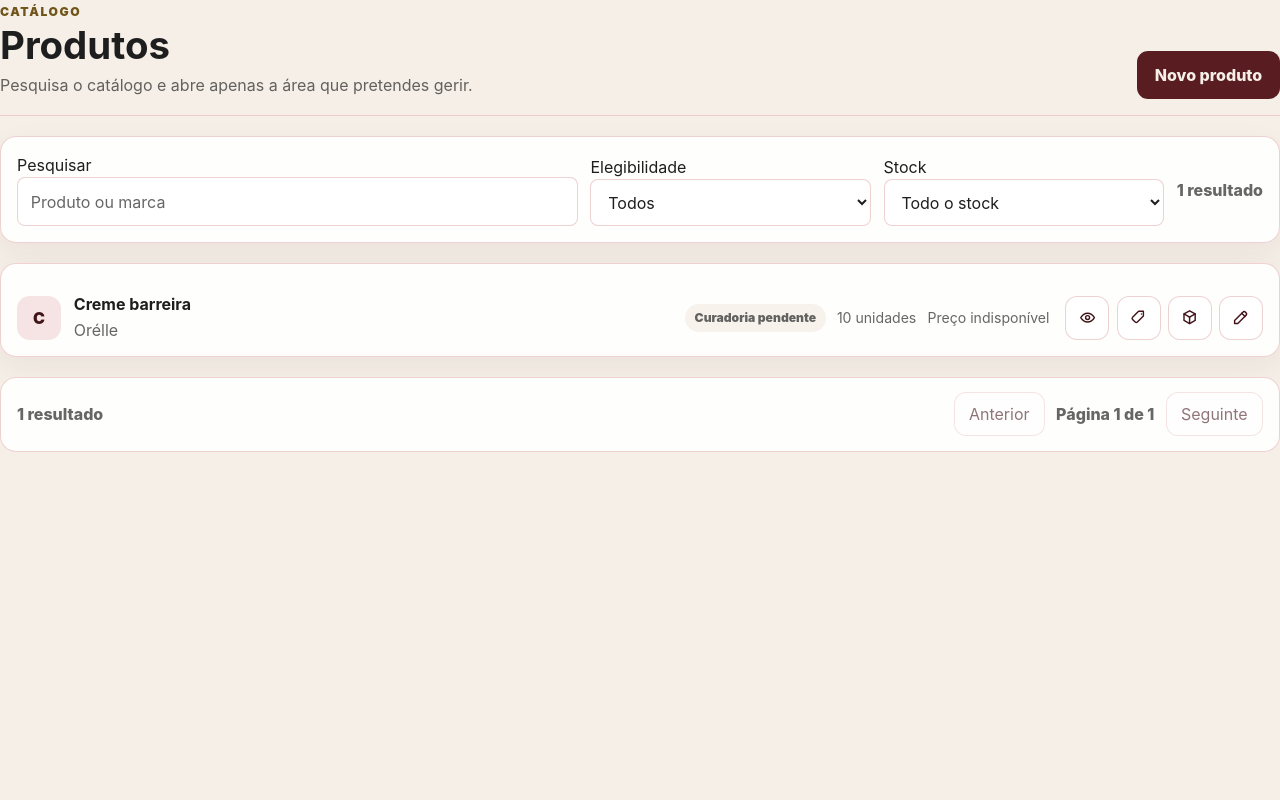
Test: abre a curadoria da linha e guarda metadata sem pedir identificadores
What coordinates should you click on to do the following:
click the button named "Editar curadoria de Creme barreira"
I would click on:
 (1241, 318)
Its box is [1219, 296, 1263, 340].
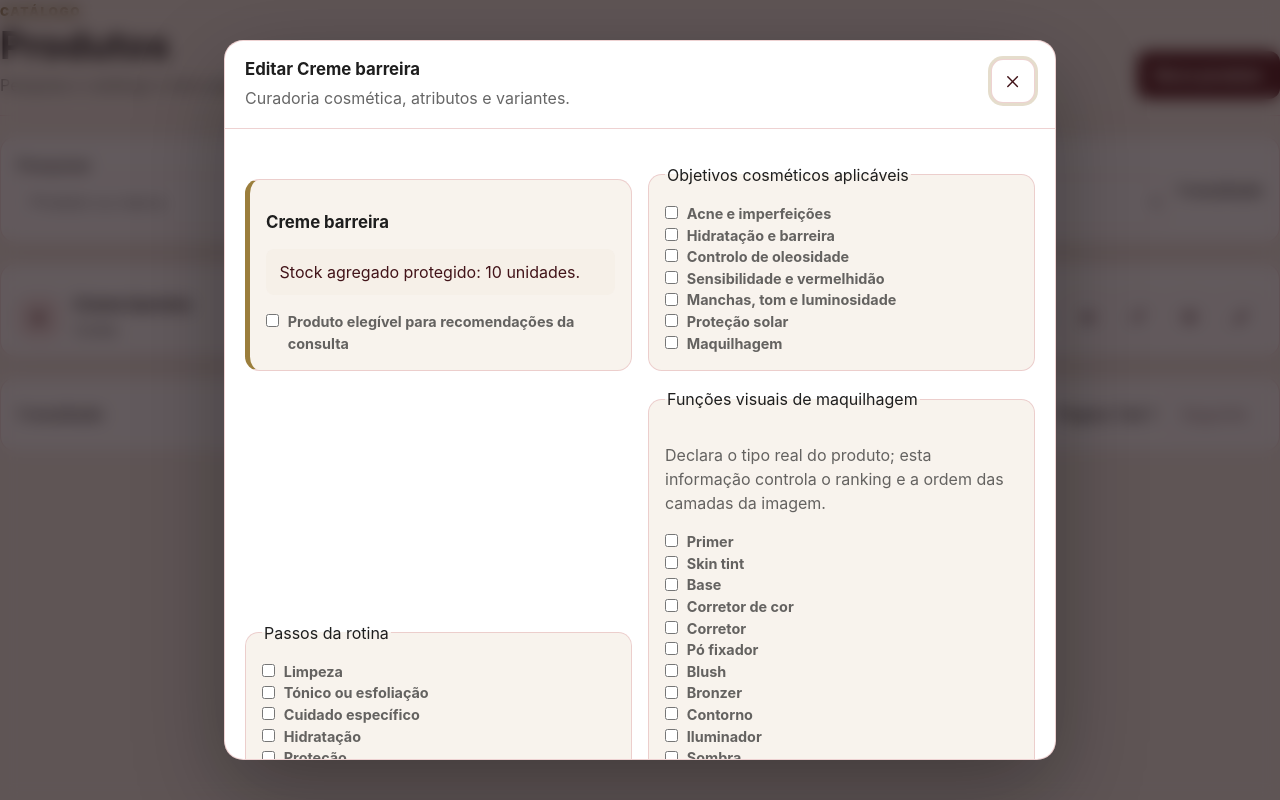
Expected: the dialog "Editar Creme barreira" is shown, [224, 40, 1056, 760]
What coordinates should you click on to do the following:
click the checkbox labelled "Produto elegível para recomendações da consulta"
I would click on:
 (272, 321)
Its box is [266, 314, 279, 327].
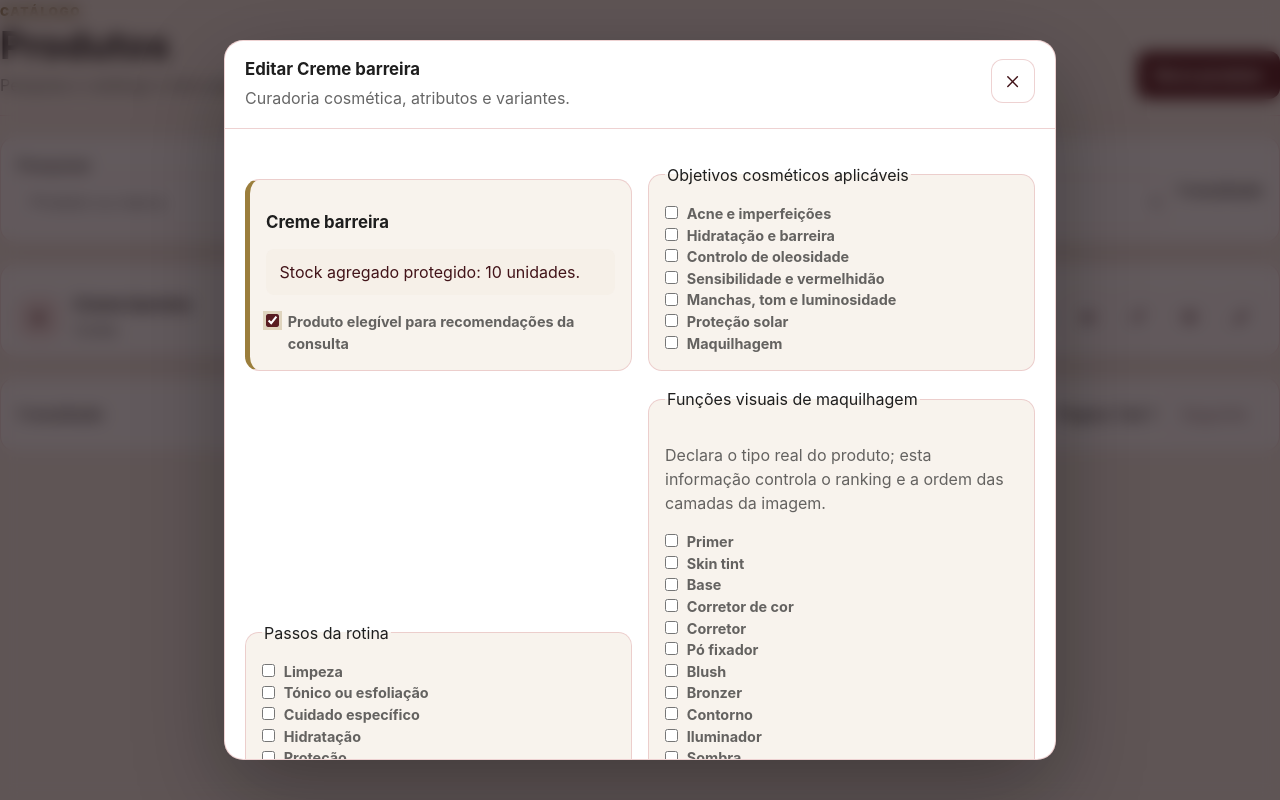
What coordinates should you click on to do the following:
click the checkbox labelled "Hidratação e barreira"
I would click on:
 (672, 234)
Its box is [665, 228, 678, 241].
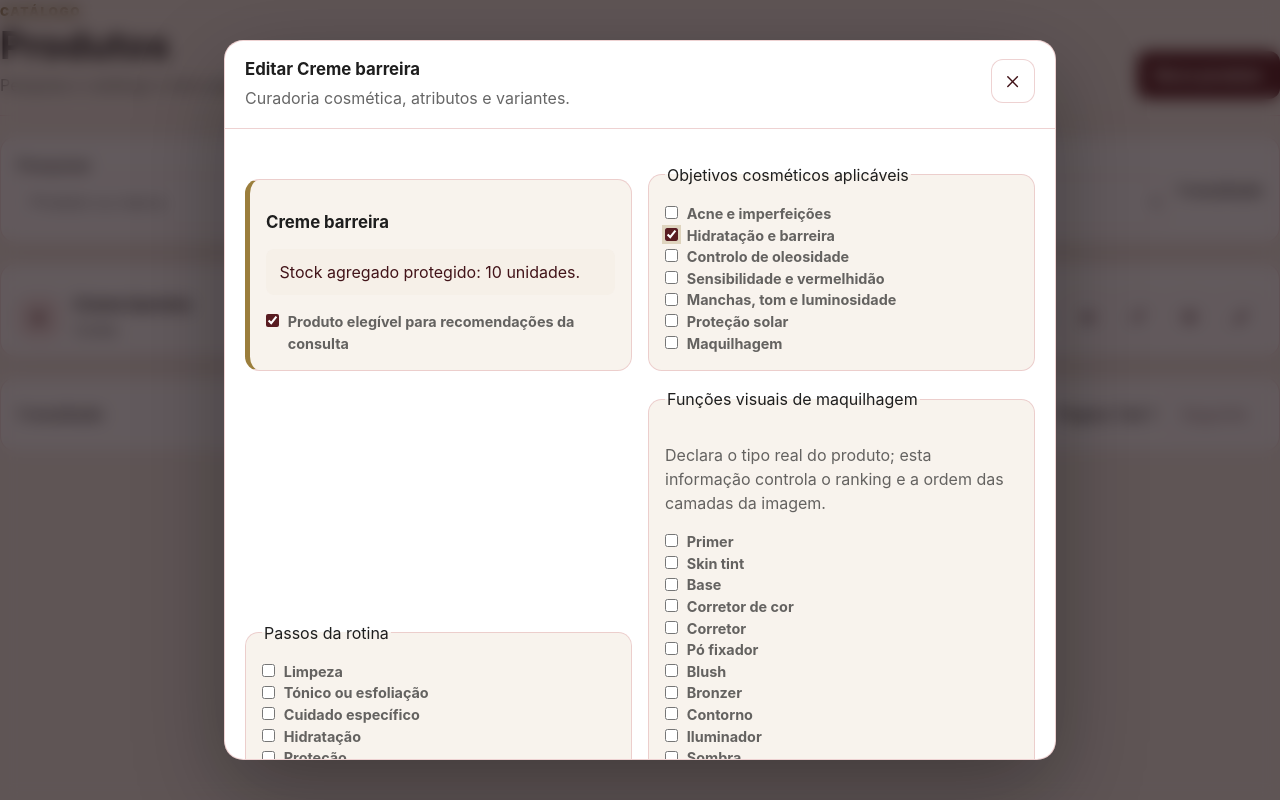
What coordinates should you click on to do the following:
click the checkbox labelled "Hidratação"
I would click on:
 (268, 735)
Its box is [262, 729, 275, 742].
(page scrolled)
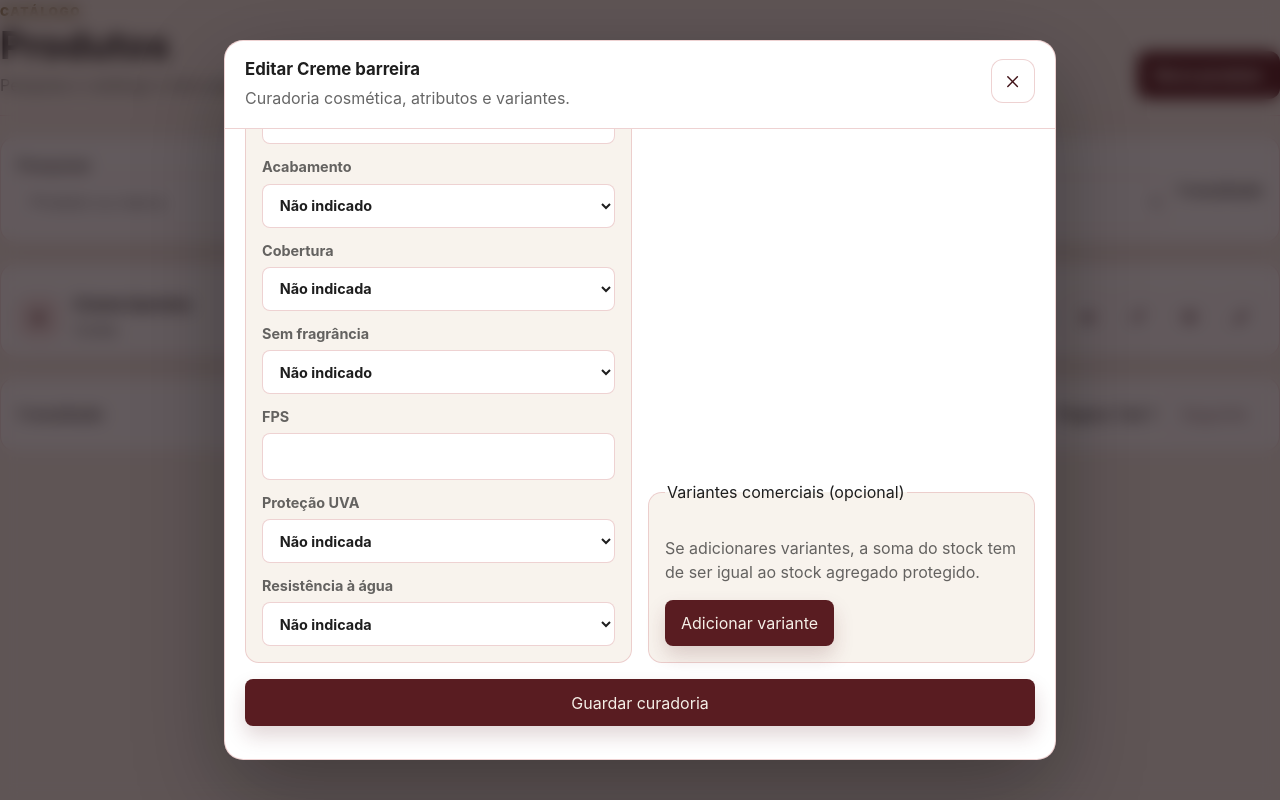
What coordinates should you click on to do the following:
click the button "Guardar curadoria"
I would click on:
 (640, 703)
Its box is [245, 679, 1035, 726].
(page scrolled)
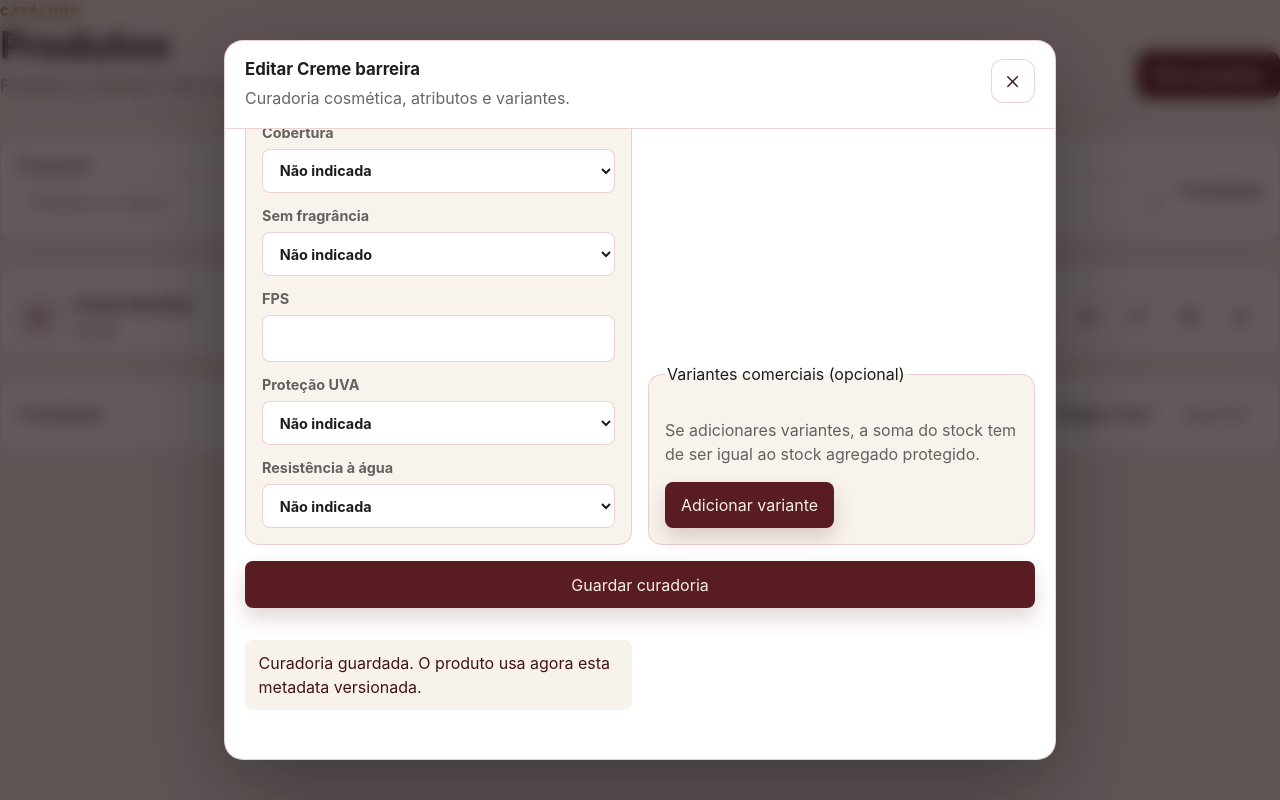
Expected: the text "Curadoria guardada. O produto usa agora esta metadata versionada." is shown, [245, 640, 632, 710]
